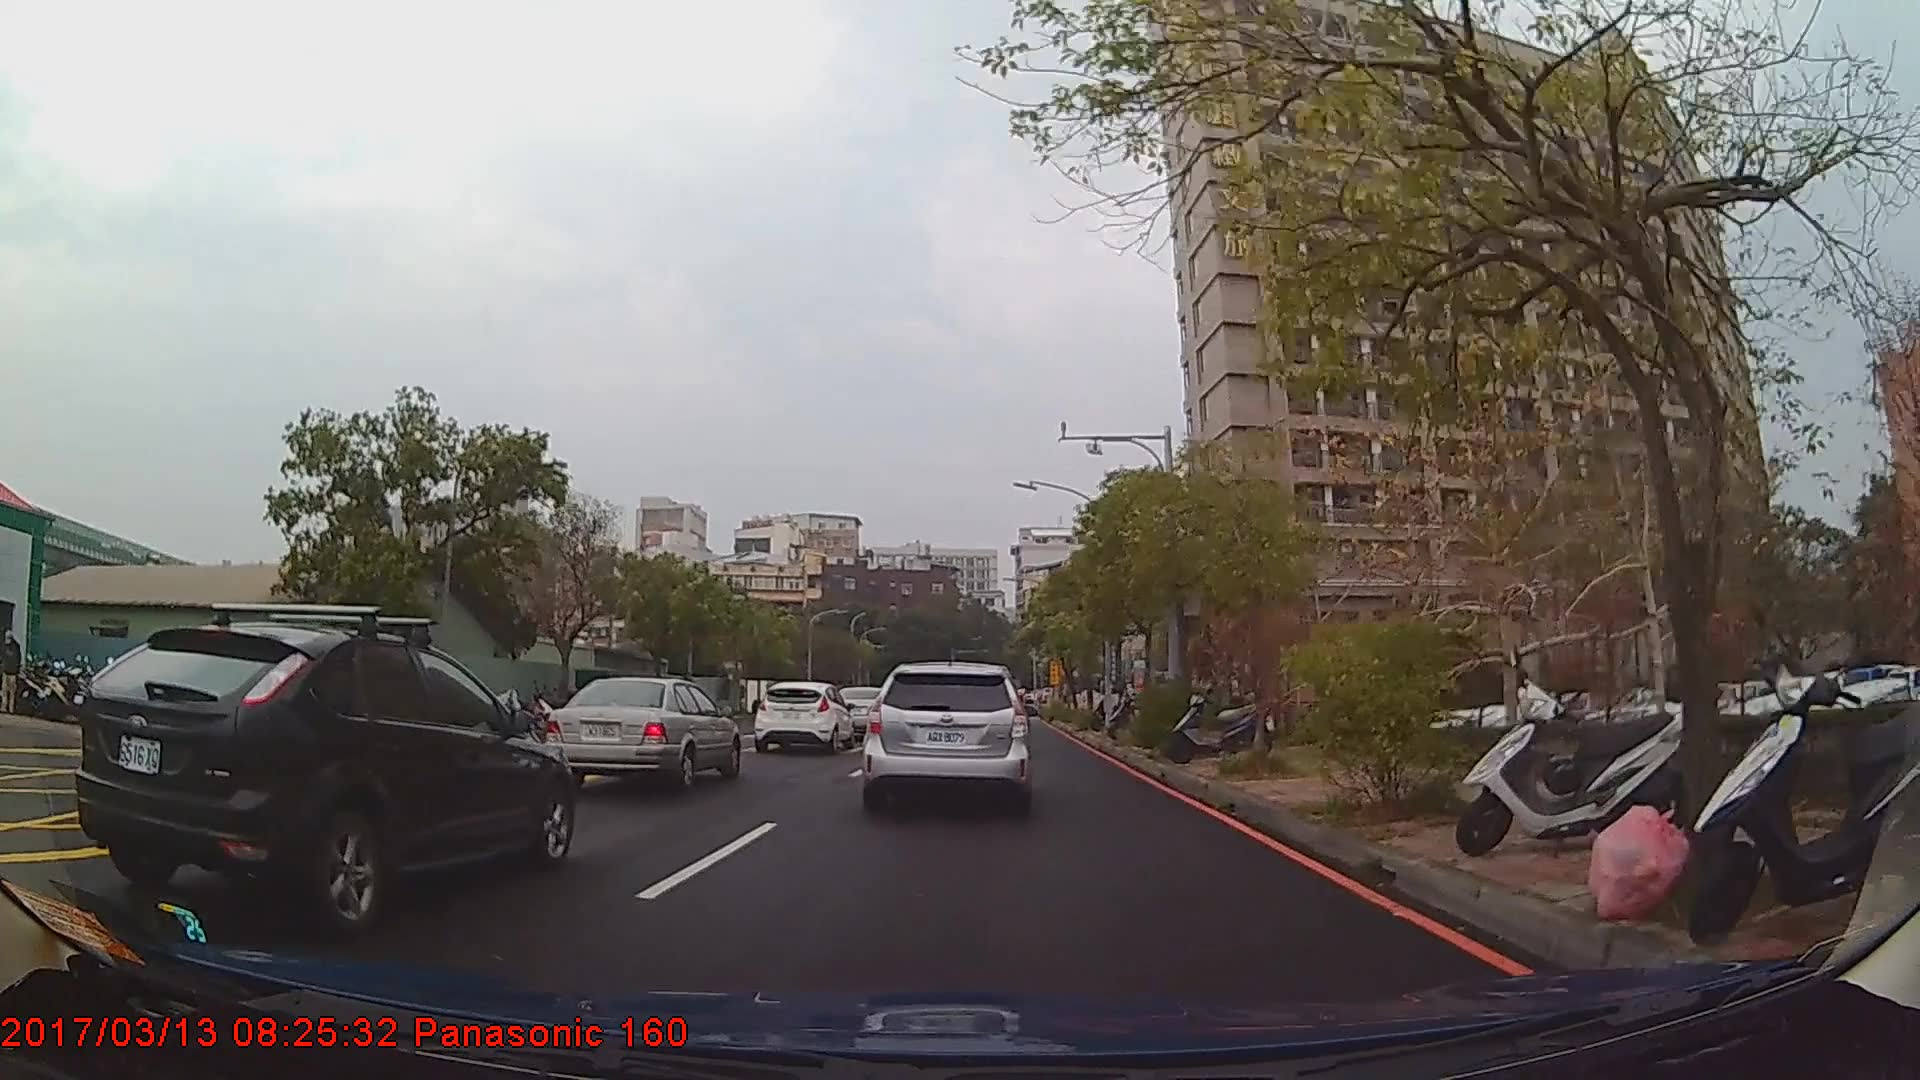pedestrian: (1, 624, 23, 725)
vehicle: (72, 622, 575, 930), (861, 660, 1030, 813), (540, 675, 740, 791), (750, 678, 852, 752)
